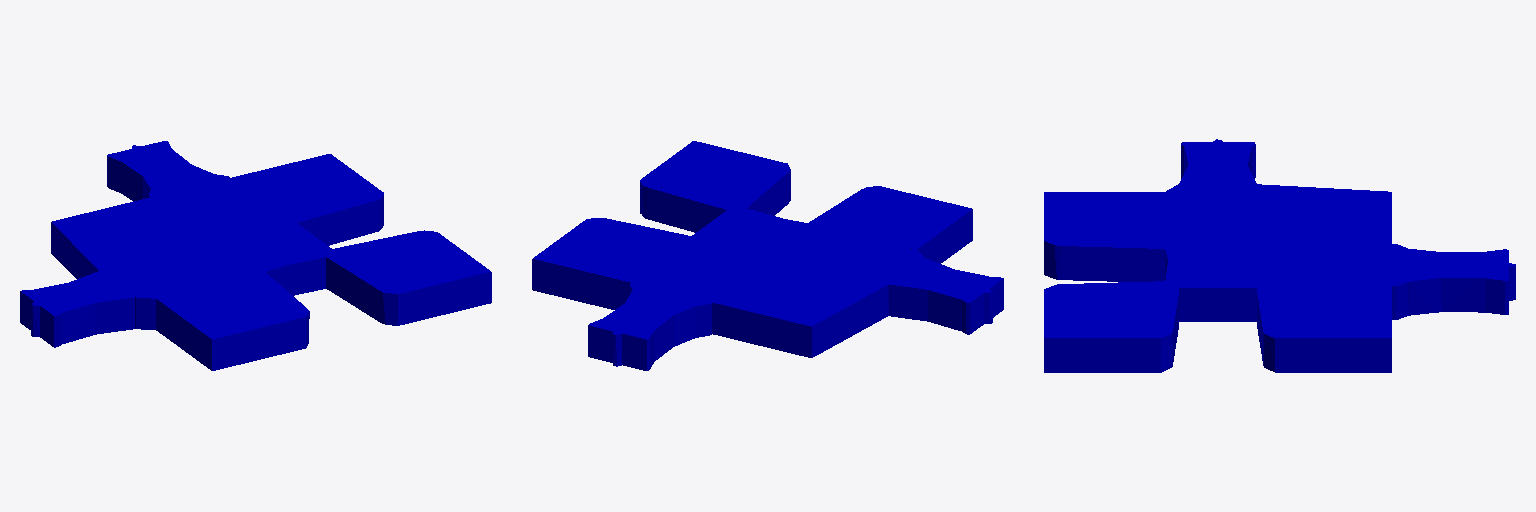
The robot description file, URDF, robot "triangle":
<?xml version="1.0" ?>
<robot name="triangle">
  <link name="baseLink">
    <contact>
      <lateral_friction value="0.1"/>
      <rolling_friction value="0.0"/>
	<restitution value="0.0" />
    </contact>
    <inertial>
      <origin rpy="0 0 0" xyz="-2.069 -1.922 2.0"/>
       <mass value="23.649"/>
       <inertia ixx="1896.213" ixy="-103.638" ixz="0" iyy="1897.111" iyz="0" izz="3730.26"/>
    </inertial>
    <visual>
      <origin rpy="0 0 0" xyz="0 0 0"/>
      <geometry>
		<mesh filename="./block_design.obj" scale="1 1 1"/>
      </geometry>
       <material name="blue">
        <color rgba="0 0 0.8 1"/>
      </material>
    </visual>
    <collision>
      <origin rpy="0 0 0" xyz="-2.069 -1.922 2.0"/>
      <geometry>
	 	<mesh filename="./block_design.obj" scale="1 1 1"/>
      </geometry>
    </collision>
  </link>
</robot>

--- What the picture shows (computed from the rendered views, not written in the file) ---
Views: 3 orthographic renders of the robot side by side, from view 1: azimuth 30°, elevation 25°; view 2: azimuth 150°, elevation 25°; view 3: azimuth 270°, elevation 25°.
Robot: triangle — 1 links, 0 joints (none); root link baseLink; default pose: every joint at zero.
Links seen in each view (by area): view 1: baseLink; view 2: baseLink; view 3: baseLink.
Boxes of the visible links, x1,y1,x2,y2 form: baseLink: [20, 141, 491, 370]; baseLink: [532, 141, 1003, 370]; baseLink: [1044, 139, 1515, 372].
Bounding box of the posed robot: 38.05 × 38.05 × 3.05 m (x, y, z).
1 mesh visuals loaded from 1 distinct referenced files (1 OBJ).